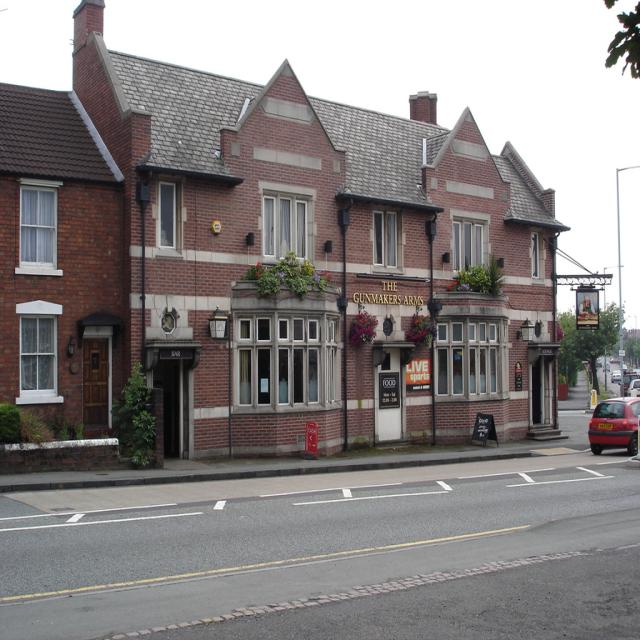car: (610, 370, 623, 381), (617, 350, 625, 356)
